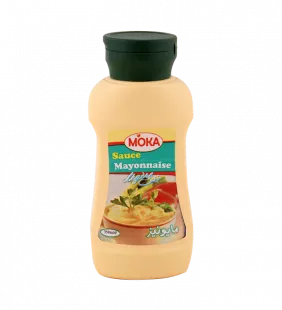MOKA: (76, 20, 204, 291)
